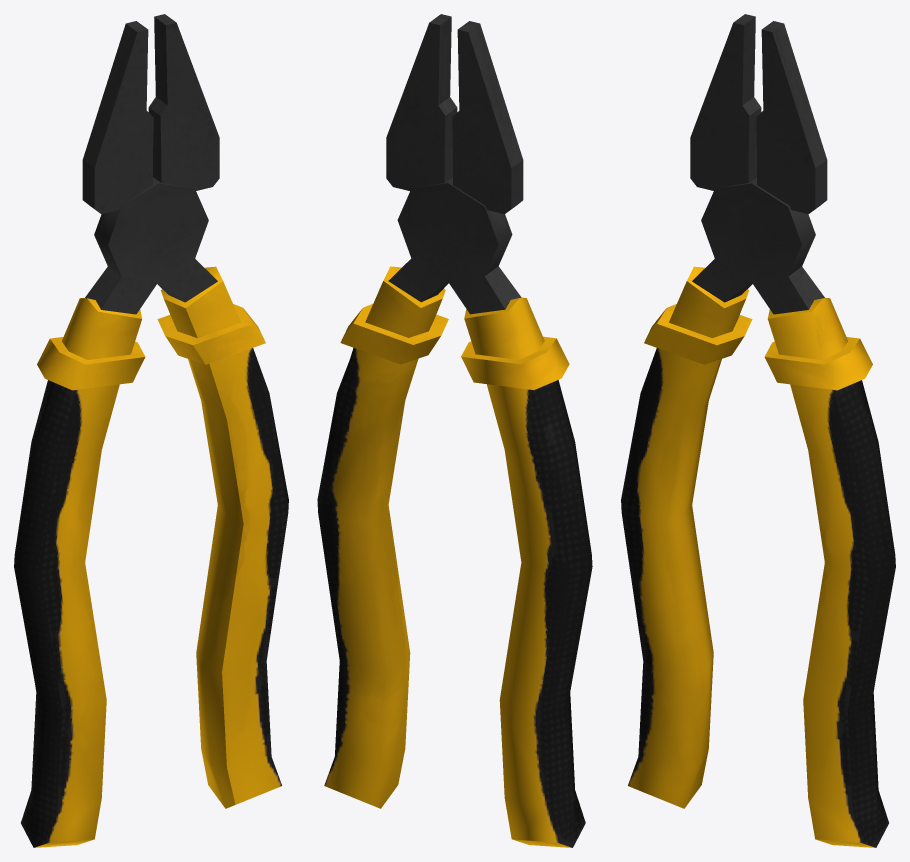
The model's file is Pliers.fbx.
3 renders of one model, left to right at view 1: azimuth 30°, elevation 25°; view 2: azimuth 150°, elevation 25°; view 3: azimuth 330°, elevation 25°, orthographic.
Parts seen in each view (by area): view 1: PliersTool; view 2: PliersTool; view 3: PliersTool.
Boxes of the visible parts, x1=… form: PliersTool: x1=14, y1=14, x2=288, y2=847; PliersTool: x1=317, y1=14, x2=592, y2=847; PliersTool: x1=621, y1=14, x2=895, y2=847.
Bounding box in the file's own units: 9.23 × 25.77 × 2.07.
Materials: 1 (1 with a texture image).
